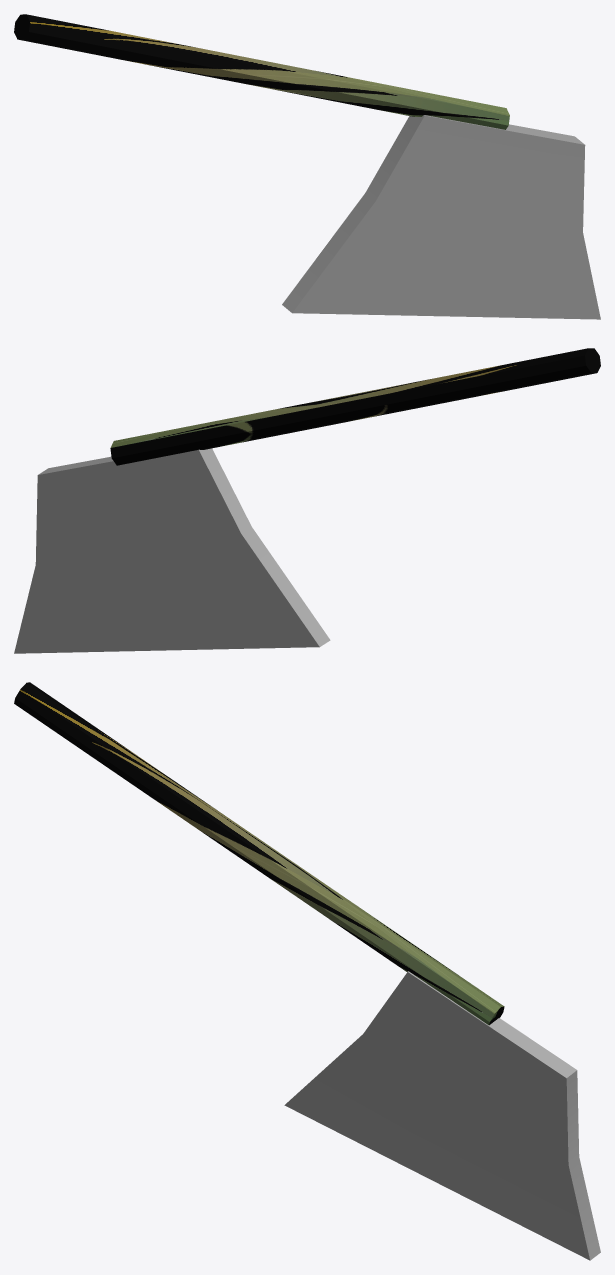
The model's file is Obj03_Axe.fbx.
3 views of the same model, one above another, from view 1: azimuth 30°, elevation 25°; view 2: azimuth 150°, elevation 25°; view 3: azimuth 330°, elevation 25° (orthographic).
Parts seen in each view (by area): view 1: Obj03_Axe; view 2: Obj03_Axe; view 3: Obj03_Axe.
Boxes of the visible parts, x1=… form: Obj03_Axe: x1=14, y1=14, x2=600, y2=319; Obj03_Axe: x1=14, y1=348, x2=600, y2=653; Obj03_Axe: x1=14, y1=682, x2=600, y2=1260.
Bounding box in the file's own units: 1.25 × 0.9121 × 0.0567.
